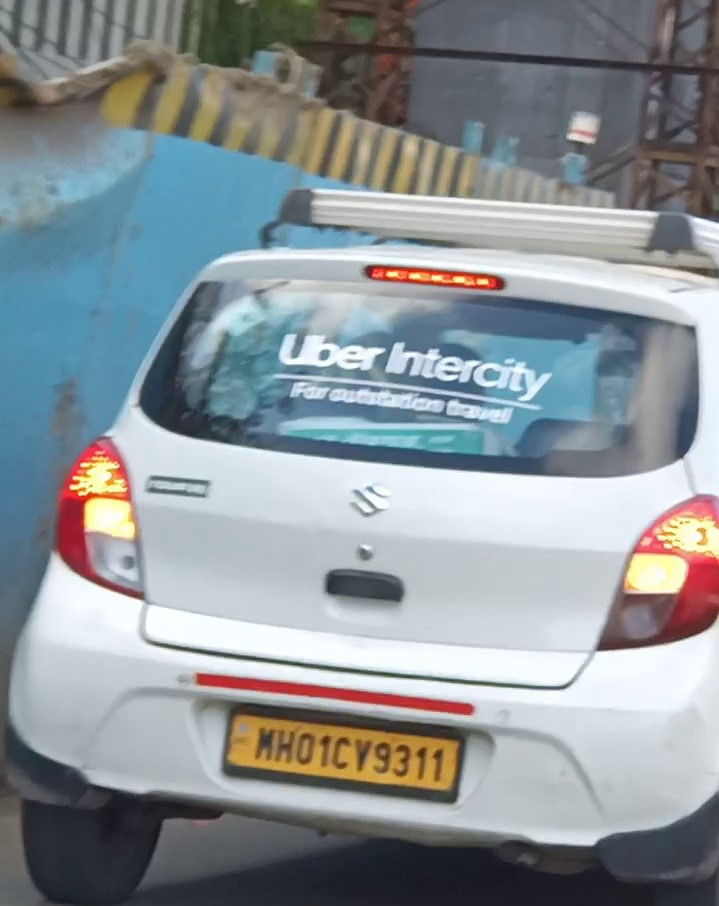MHD1CV9311: (227, 710, 459, 796)
